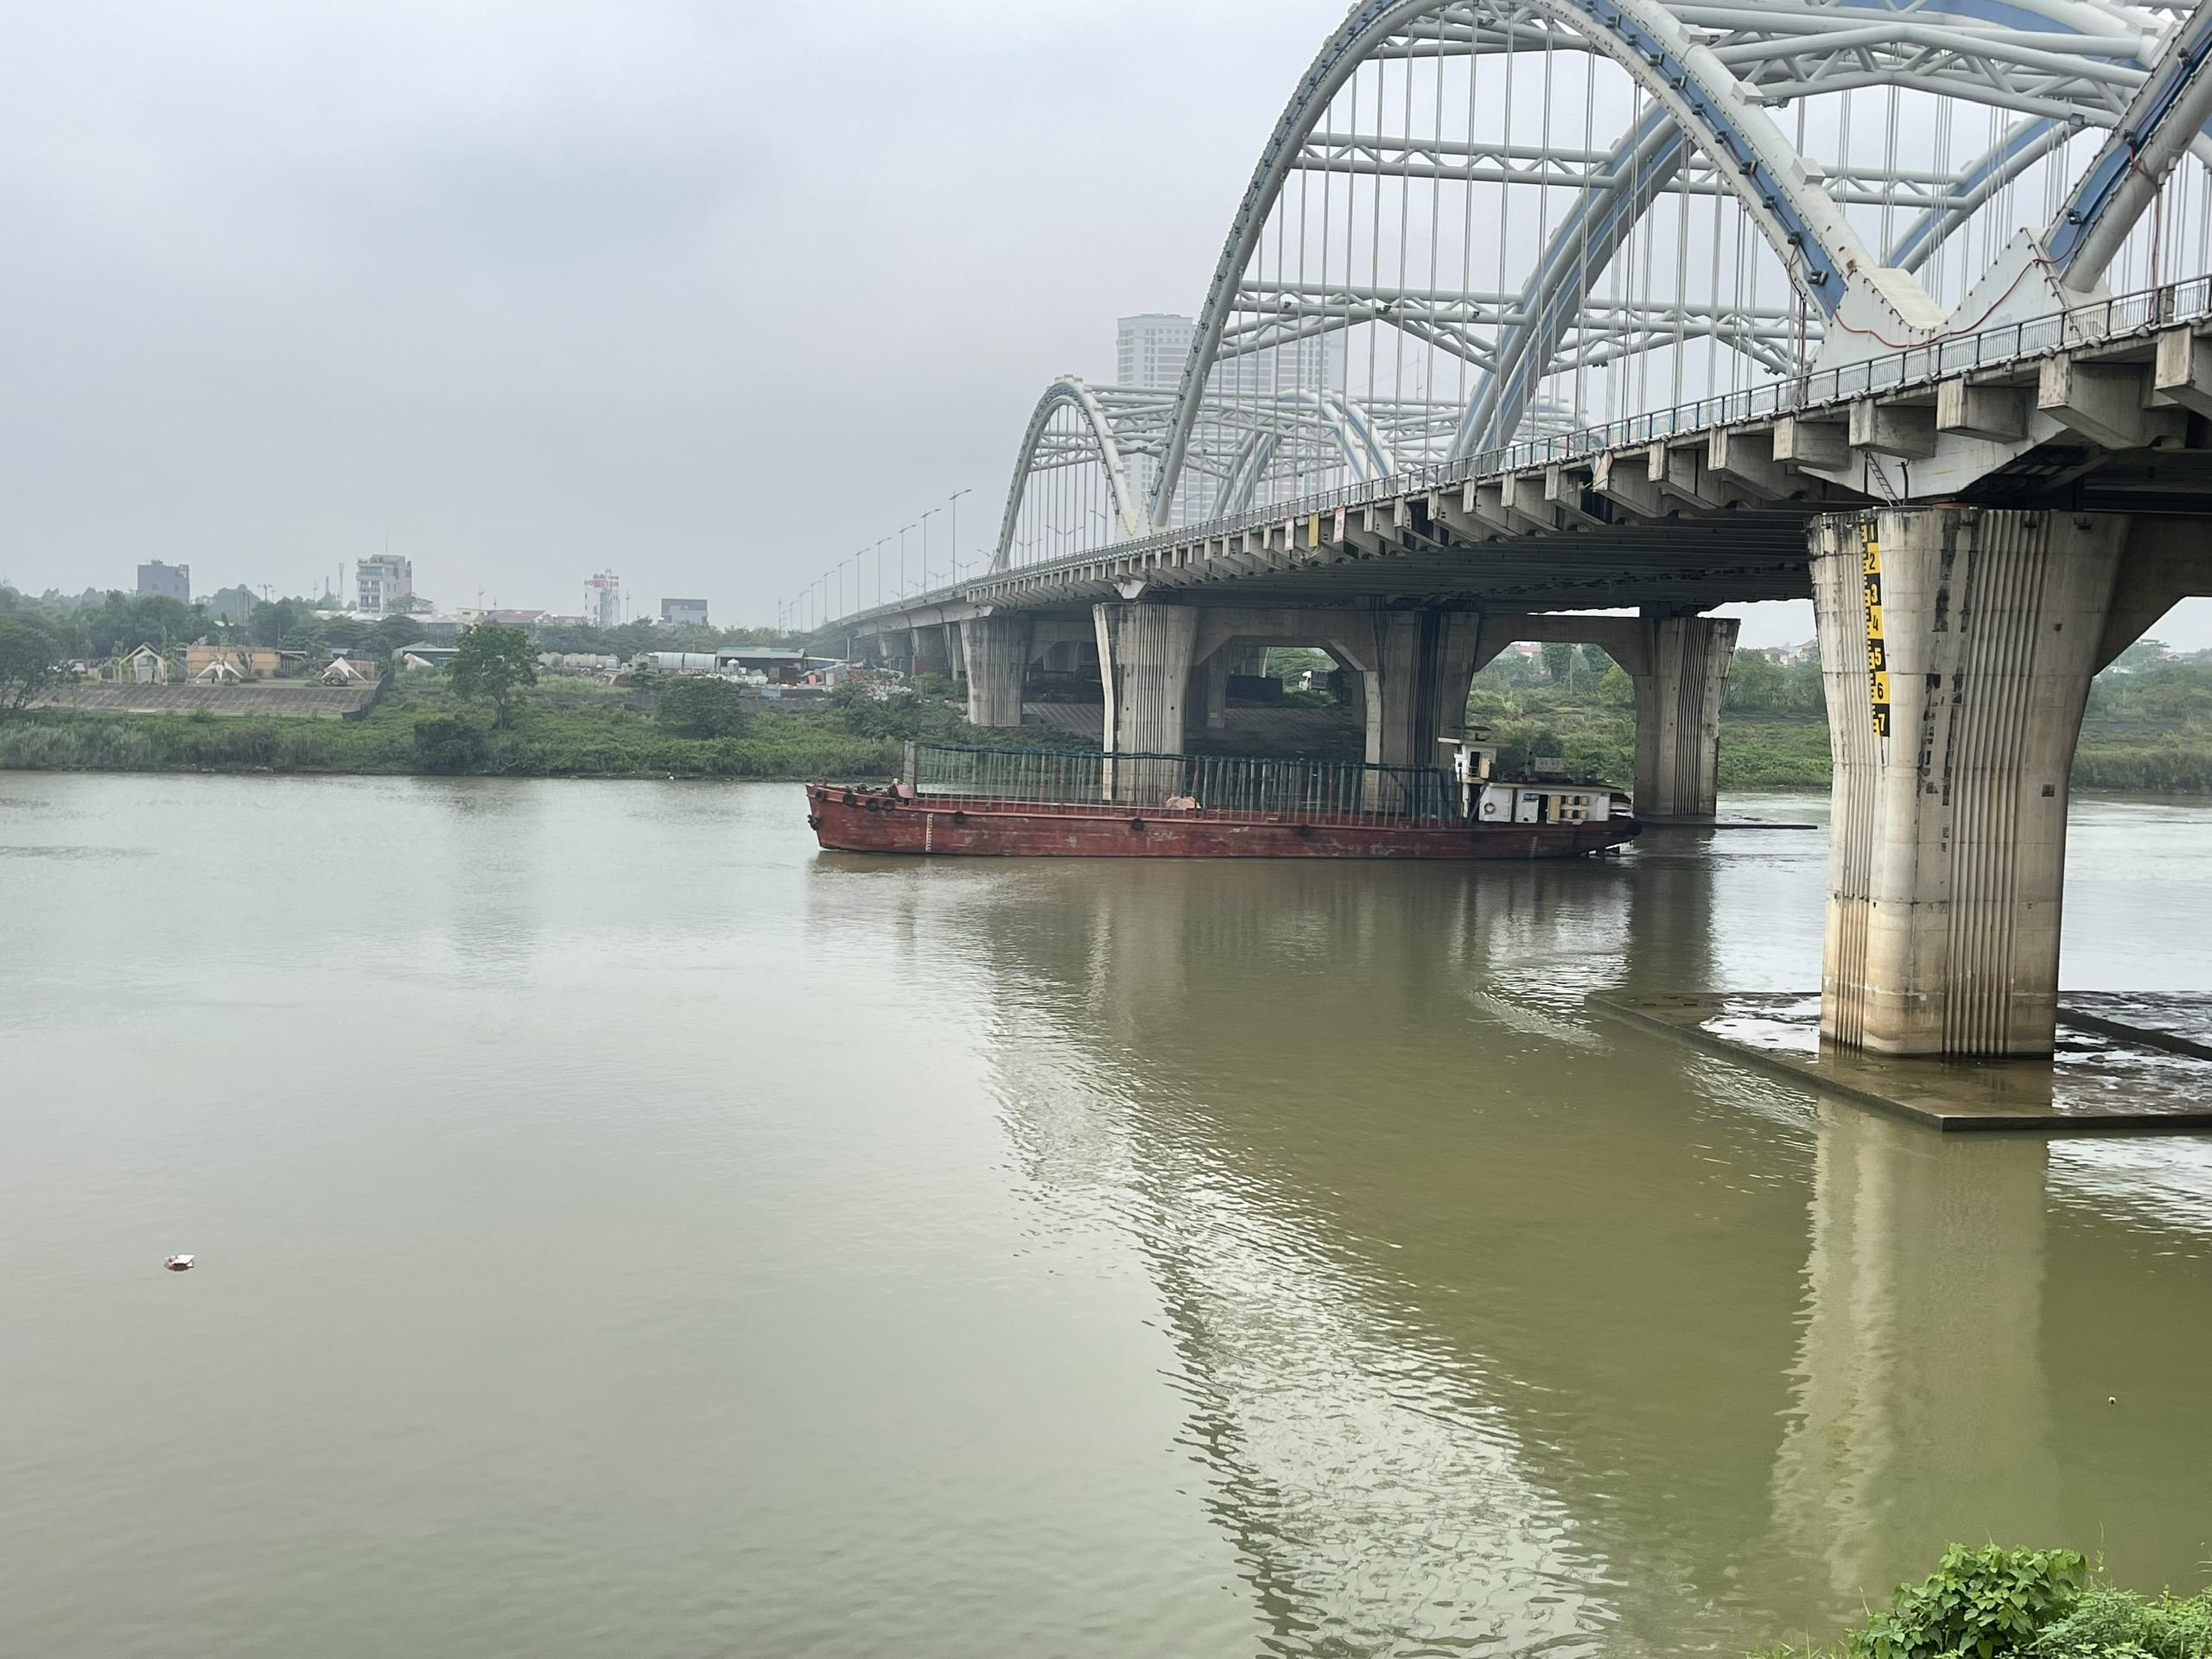Ship: (796, 725, 1642, 878)
